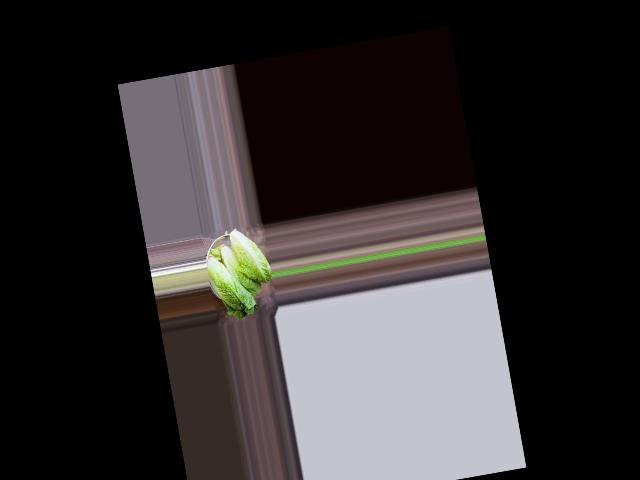lettuce: (203, 243, 259, 320)
